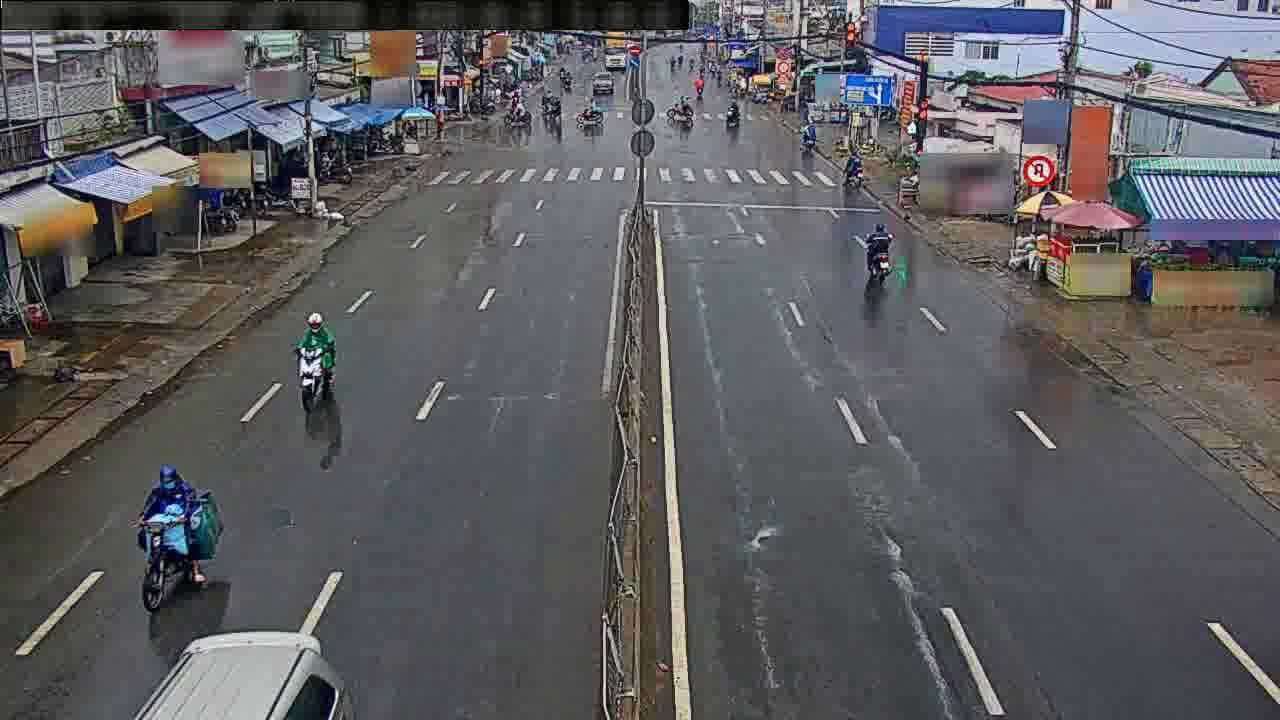container: (116, 653, 357, 720)
motorbike: (133, 468, 226, 610), (291, 308, 336, 411), (861, 218, 893, 288), (839, 149, 866, 186)
